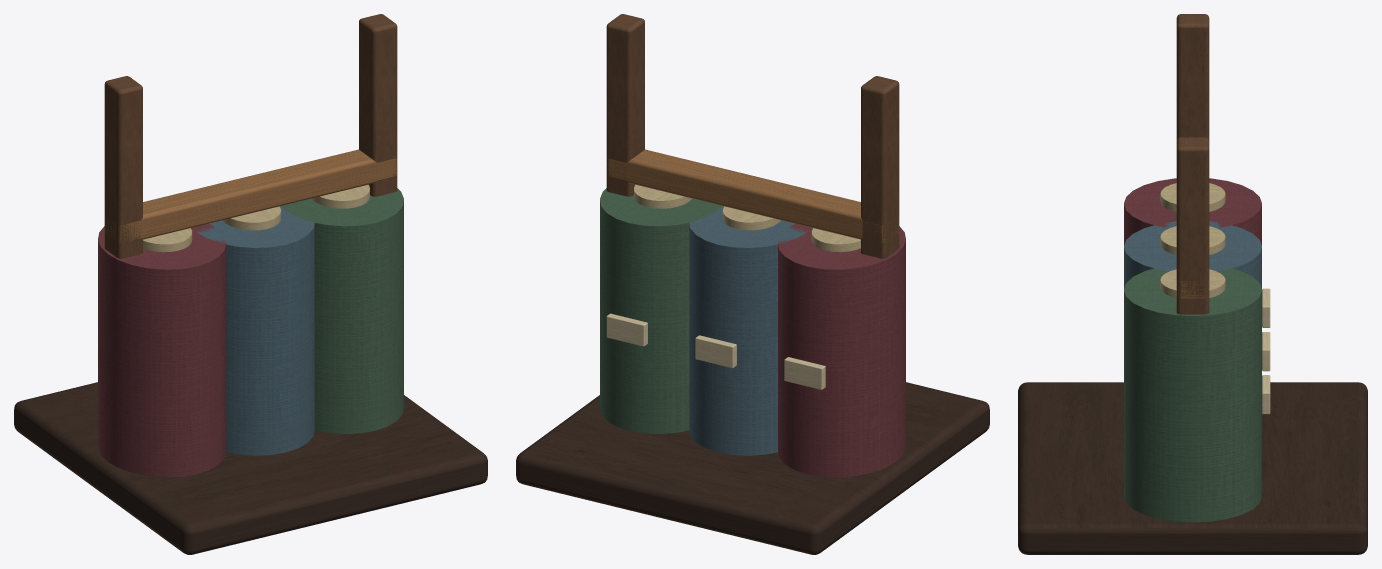
File: cloth_bolts.glb
3 views of the same model, side by side, from view 1: azimuth 30°, elevation 25°; view 2: azimuth 150°, elevation 25°; view 3: azimuth 270°, elevation 25° (orthographic).
Parts seen in each view (by area): view 1: cloth_bolts; view 2: cloth_bolts; view 3: cloth_bolts.
Boxes of the visible parts, x1,y1,x2,y2 form: cloth_bolts: (14, 14, 487, 554); cloth_bolts: (516, 14, 989, 554); cloth_bolts: (1018, 14, 1367, 554).
Bounding box in the file's own units: 1.1 × 1.4 × 1.1.
Materials: 1 (1 with a texture image).
